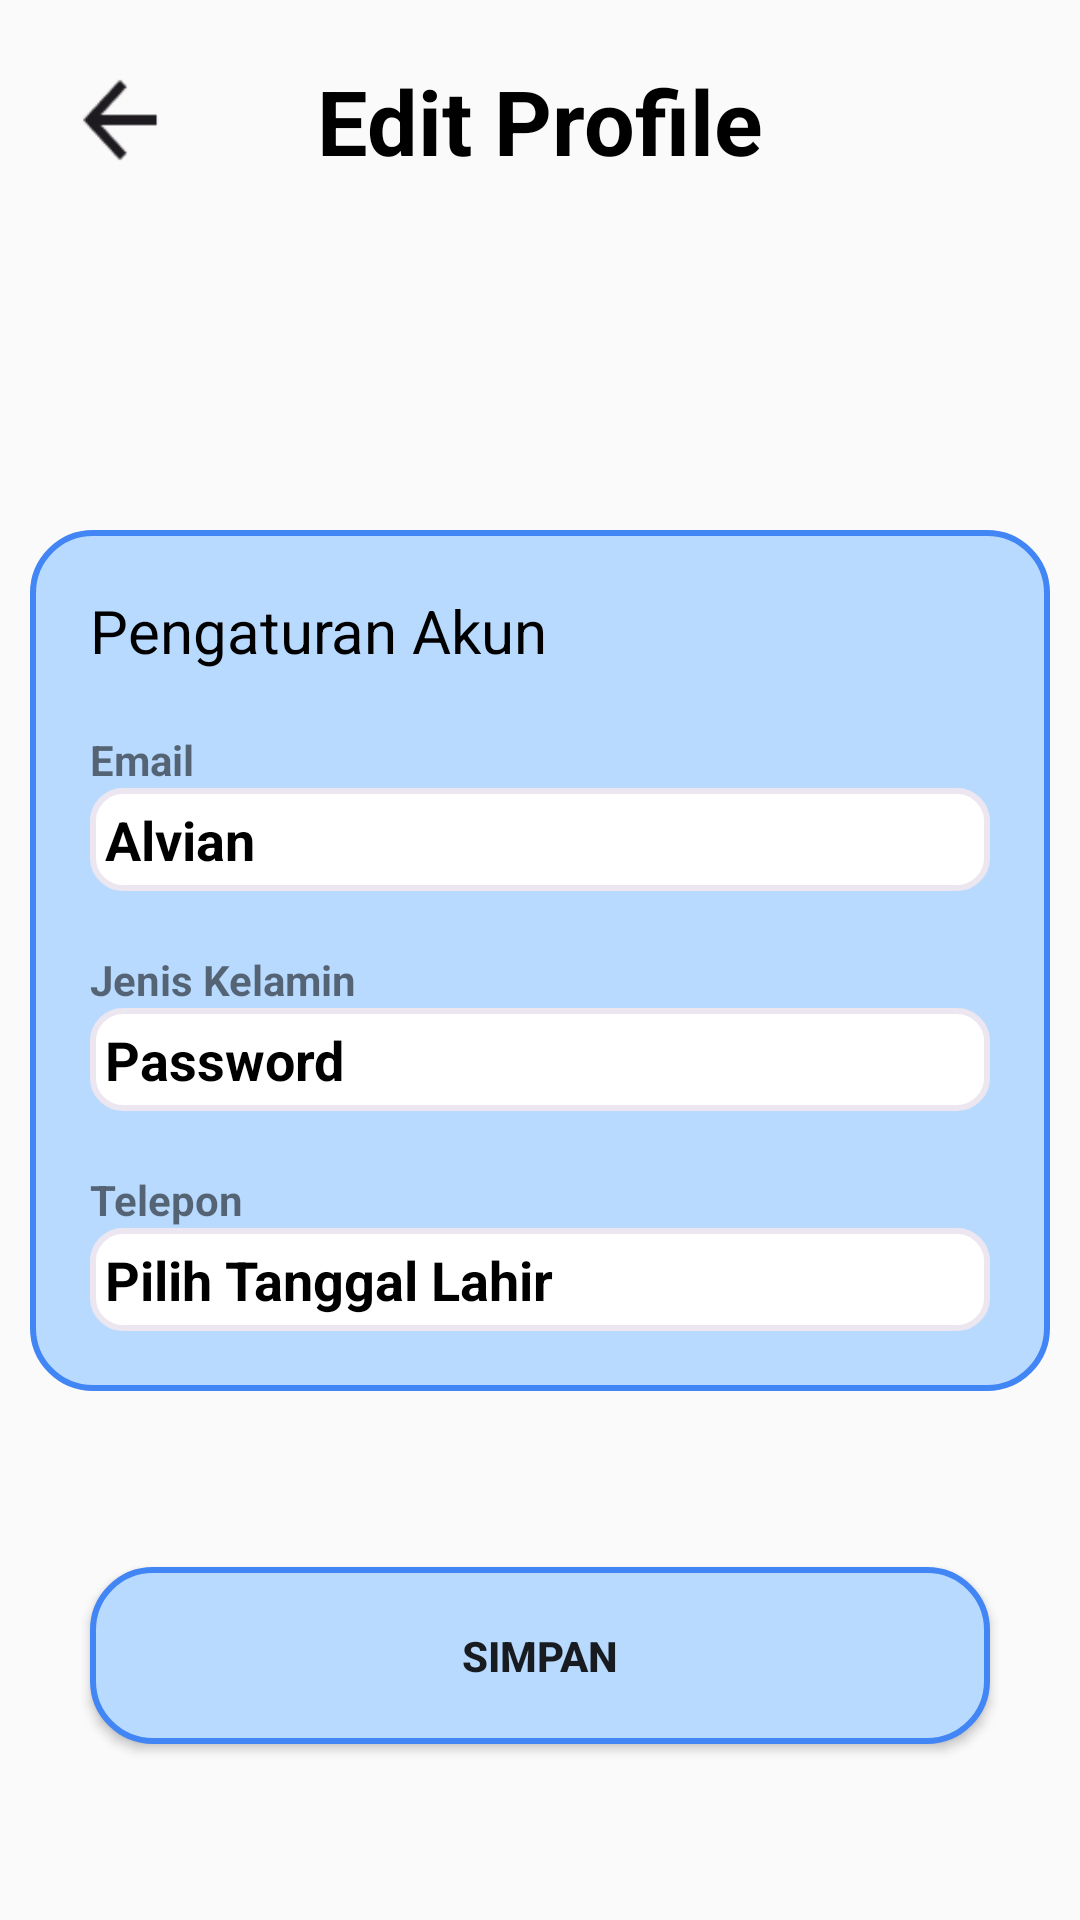

Screen size 1080w x 1920h. Icon name, then its center in pixels as (x,y):
arrow back: (120,120)
